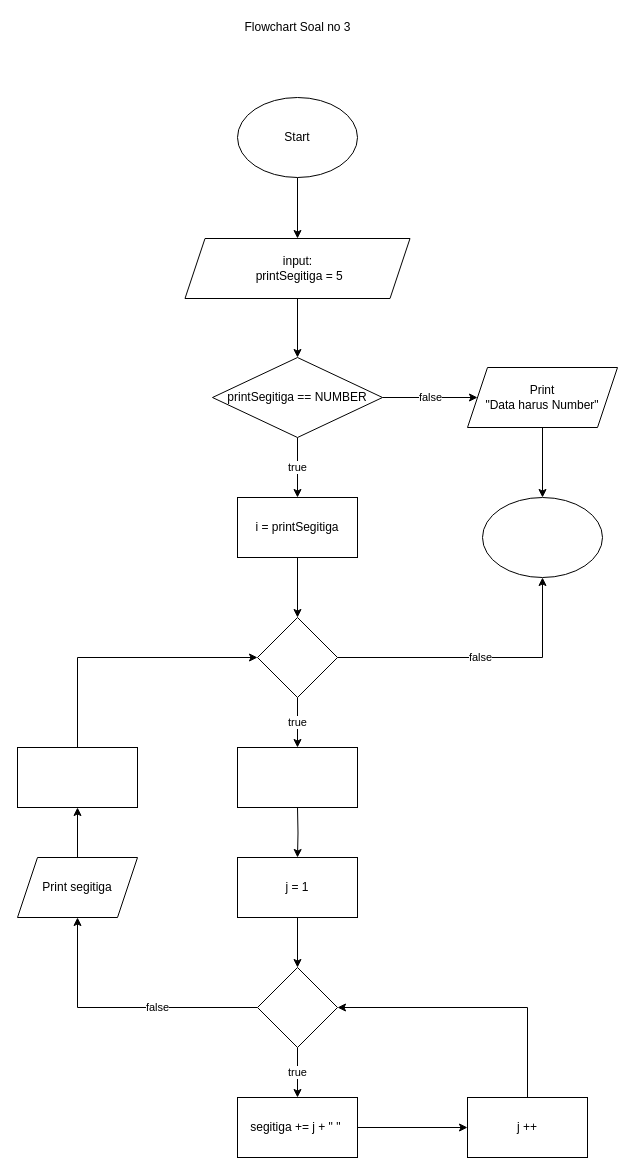
Some shapes in this 635 by 1175 pixel diagram are drawn without their labels. Each missing label, with the box of its shape:
End: (482, 496, 602, 578)
i --: (16, 746, 138, 808)
i >= 1: (256, 616, 338, 698)
j <= i: (256, 966, 338, 1048)
segitiga = "": (236, 746, 358, 808)
